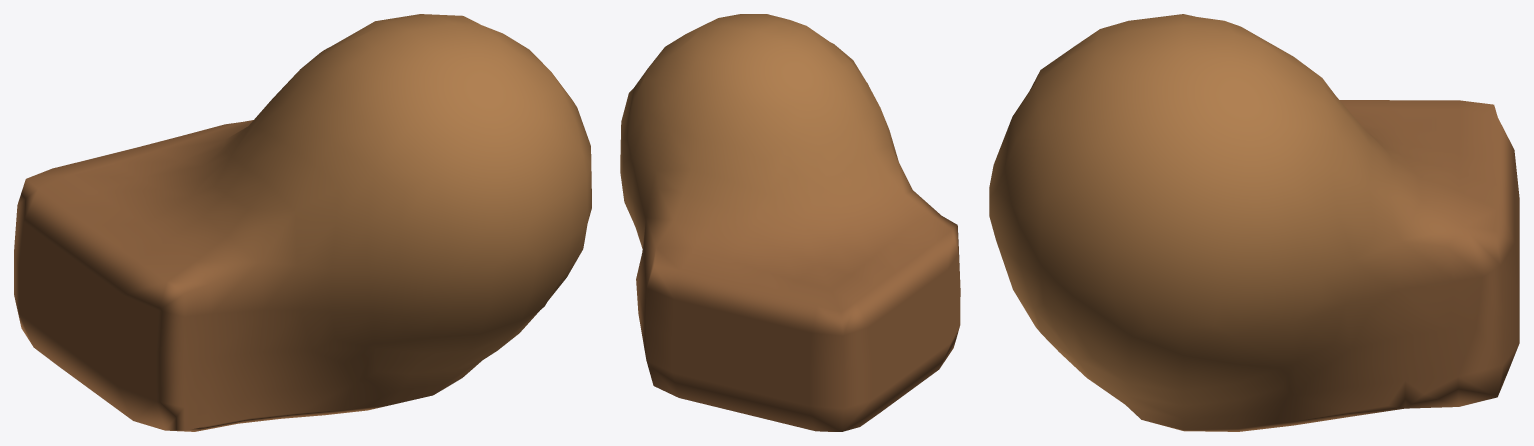
File: 44_quads_400.obj
The picture shows the model from 3 angles, left to right: view 1: azimuth 30°, elevation 25°; view 2: azimuth 150°, elevation 25°; view 3: azimuth 270°, elevation 25°; orthographic projection. The views are drawn at different scales.
Parts seen in each view (by area): view 1: claycore; view 2: claycore; view 3: claycore.
Boxes of the visible parts, left/top/right/bottom form: claycore: left=14, top=14, right=591, bottom=431; claycore: left=620, top=14, right=960, bottom=431; claycore: left=989, top=14, right=1519, bottom=431.
Size of the model in its own units: 0.7418 by 0.6193 by 0.7257.
